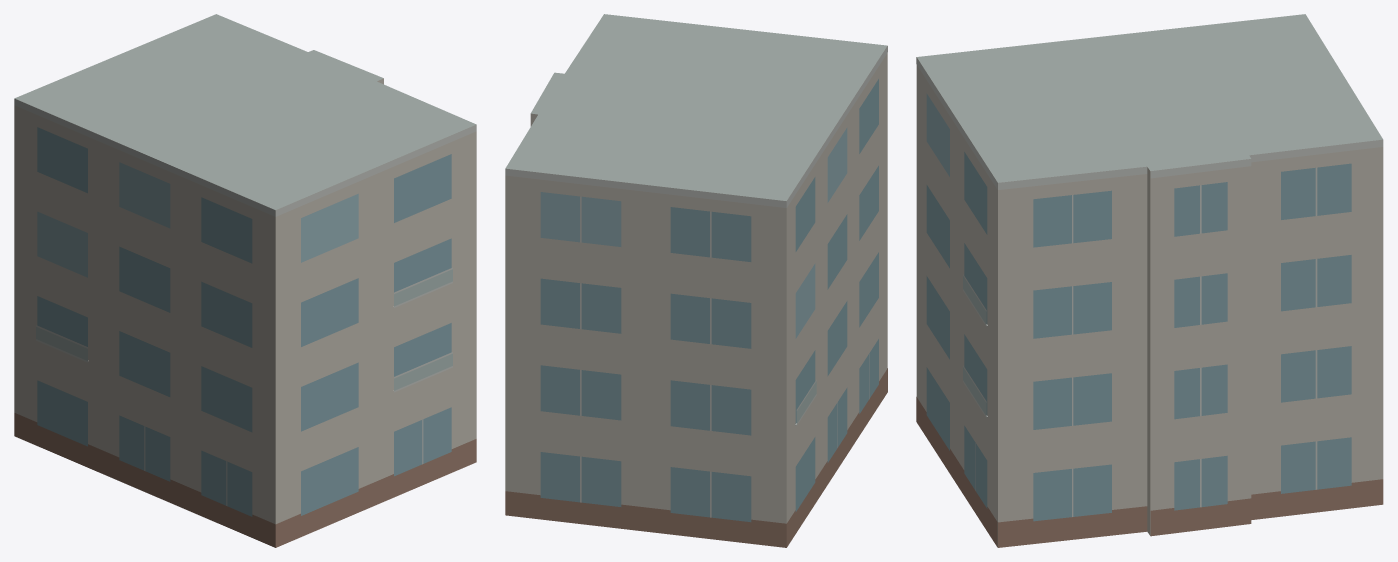
The model's file is survey-upis-32719745.glb.
3 views of the same model, side by side, from view 1: azimuth 30°, elevation 25°; view 2: azimuth 150°, elevation 25°; view 3: azimuth 270°, elevation 25° (orthographic). The views are drawn at different scales.
Visible parts, largest first — view 1: survey-upis-32719745.tmp; view 2: survey-upis-32719745.tmp; view 3: survey-upis-32719745.tmp.
Part boxes in pixels (x1,y1,x2,y2): survey-upis-32719745.tmp: (14,14,476,547); survey-upis-32719745.tmp: (505,14,887,547); survey-upis-32719745.tmp: (916,14,1383,547).
Size of the model in its own units: 12.11 by 12.2 by 14.15.
